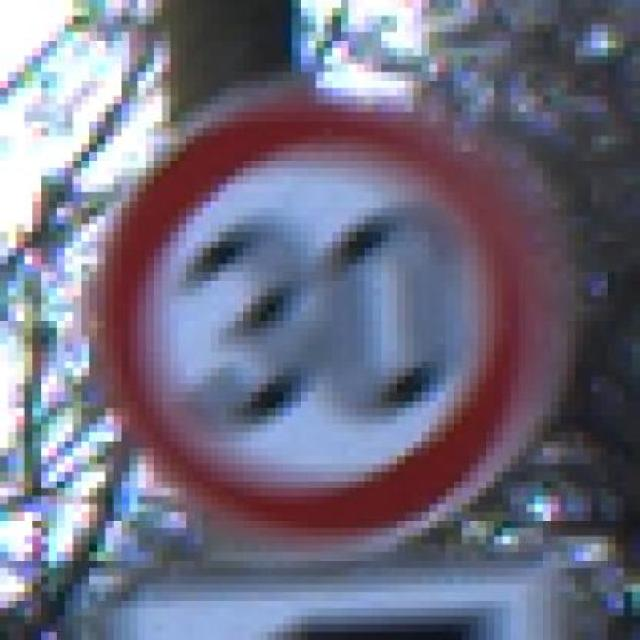Speed Limit 30 KMPh: (40, 48, 632, 560)
